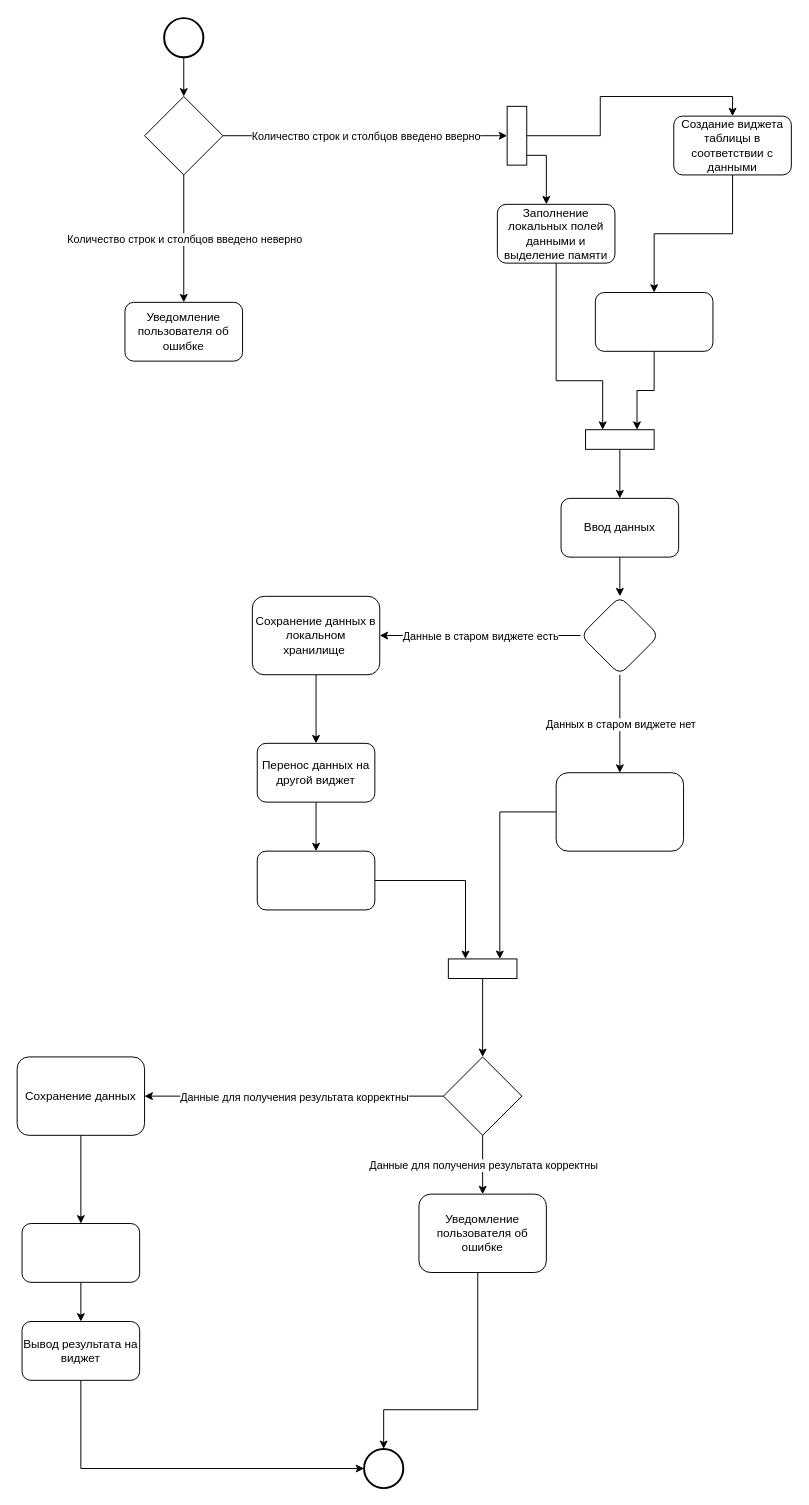
This 809x1505 diagram has some shape labels left out. Here are the shapes that lost their labels. From the top down, the centre of each, then its label:
At (x=653, y=321): "Отображение выбранного виджета".
At (x=619, y=811): "Сохранение данных в локальном хранилище и перенос их в другой виджет".
At (x=315, y=880): "Отображение нового виджета и скрытие старого".
At (x=80, y=1252): "Обработка данных".
